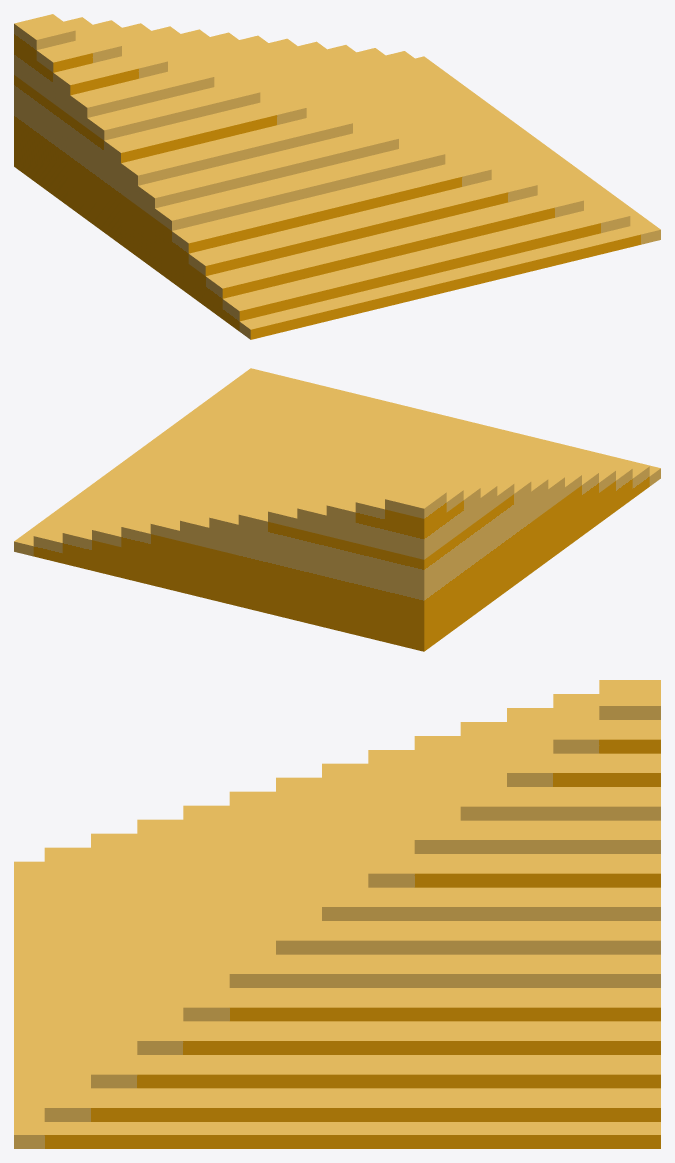
The model's file is library_pyramidao.fezao.glb.
3 renders of one model, top to bottom at view 1: azimuth 30°, elevation 25°; view 2: azimuth 150°, elevation 25°; view 3: azimuth 270°, elevation 25°, orthographic. The views are drawn at different scales.
Visible parts, largest first — view 1: LIBRARY_PYRAMIDAO; view 2: LIBRARY_PYRAMIDAO; view 3: LIBRARY_PYRAMIDAO.
Part boxes in pixels (x1,y1,x2,y2): LIBRARY_PYRAMIDAO: (14, 14, 660, 339); LIBRARY_PYRAMIDAO: (14, 368, 660, 651); LIBRARY_PYRAMIDAO: (14, 680, 660, 1148).
Size of the model in its own units: 2.62 by 0.875 by 2.62.
1 material, 1 textured.
